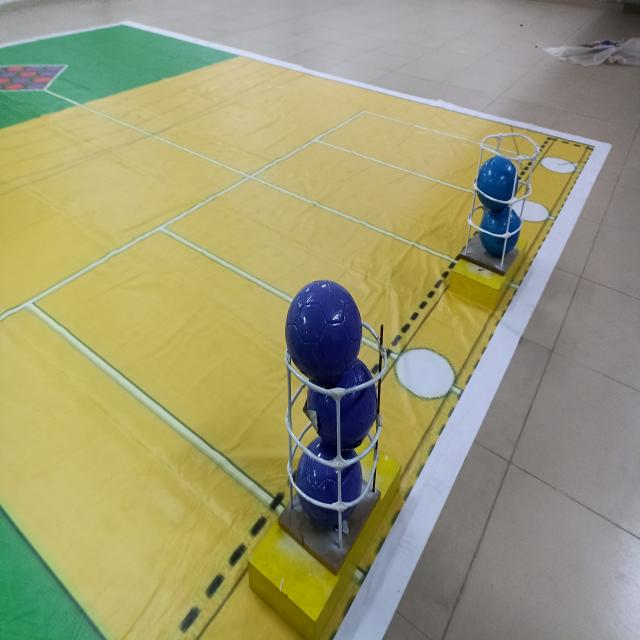blue_ball: (478, 204, 523, 259), (477, 154, 516, 210)
purple_ball: (286, 279, 364, 379), (305, 362, 379, 452), (299, 436, 364, 528)
silo: (280, 279, 387, 536), (464, 113, 534, 276)
